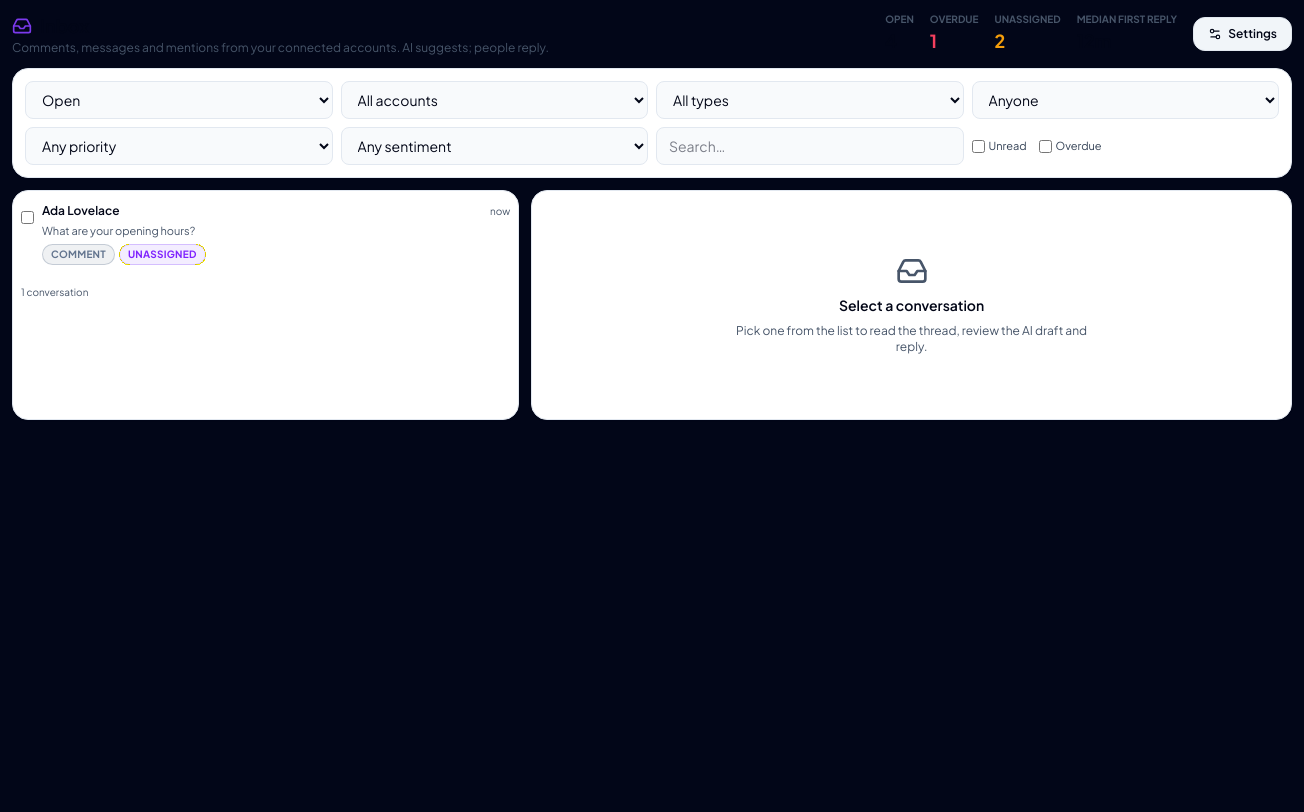
Test: conversation view › shows the thread, internal notes and the AI triage, marking unread items as read
What coordinates should you click on to do the following:
click the button "Ada Lovelace"
I would click on:
 (81, 210)
Its box is [42, 199, 510, 268].
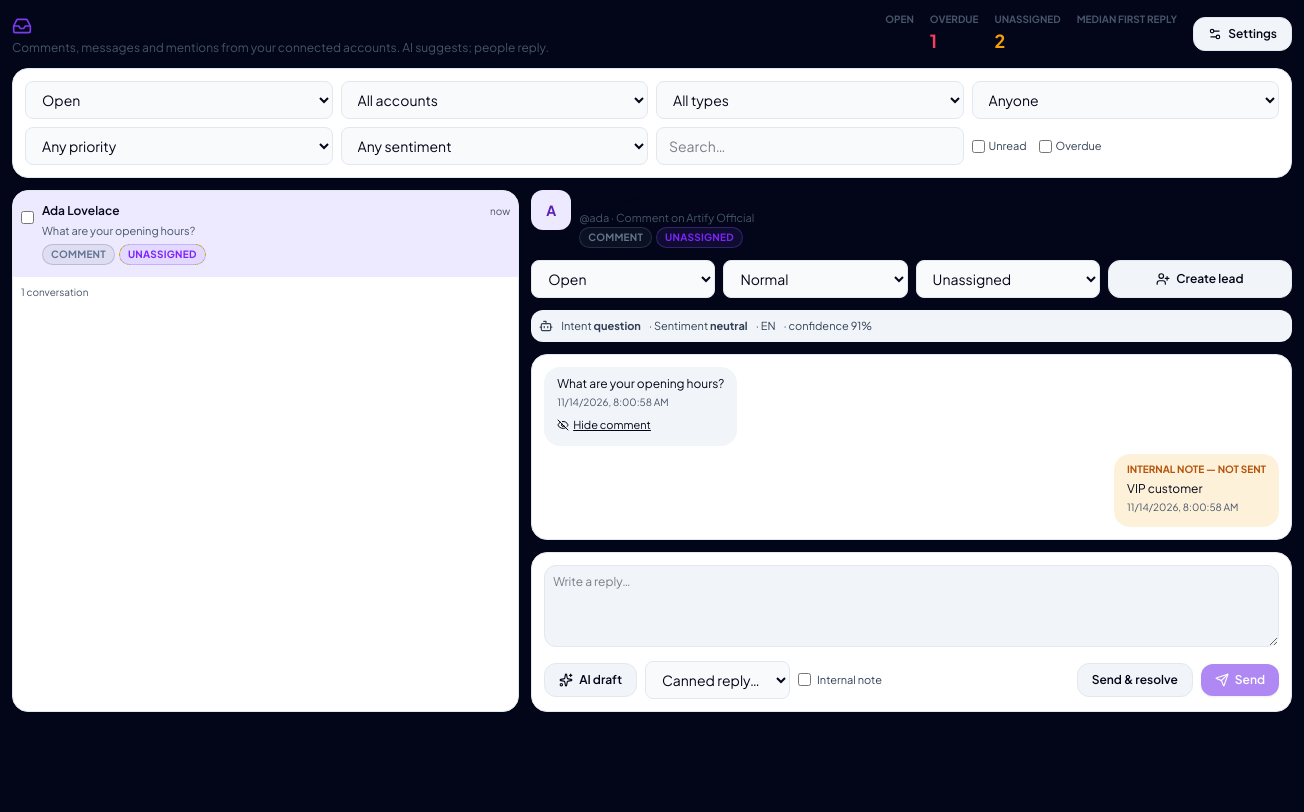
expect the list named "Conversation thread" is shown: met, box [544, 367, 1279, 527]
expect the text "Internal note — not sent" is shown: met, box [1127, 463, 1266, 477]
expect the element named "AI triage" shows "confidence 91%": met, box [531, 310, 1292, 342]
